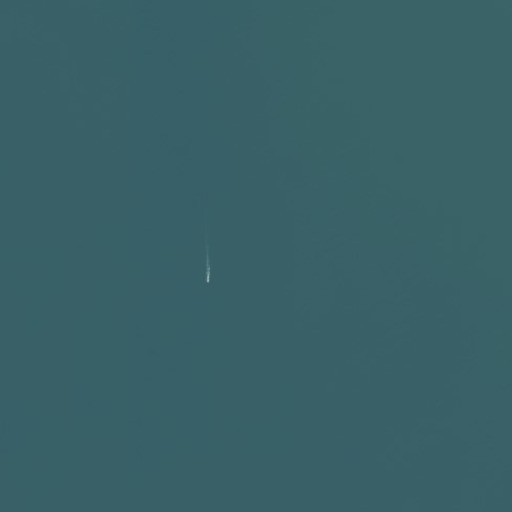ship: (203, 268, 212, 285)
